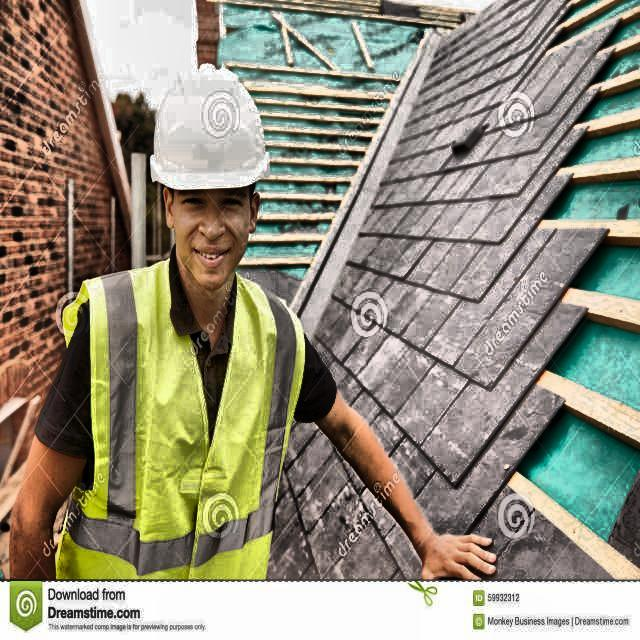person: (15, 50, 364, 577)
